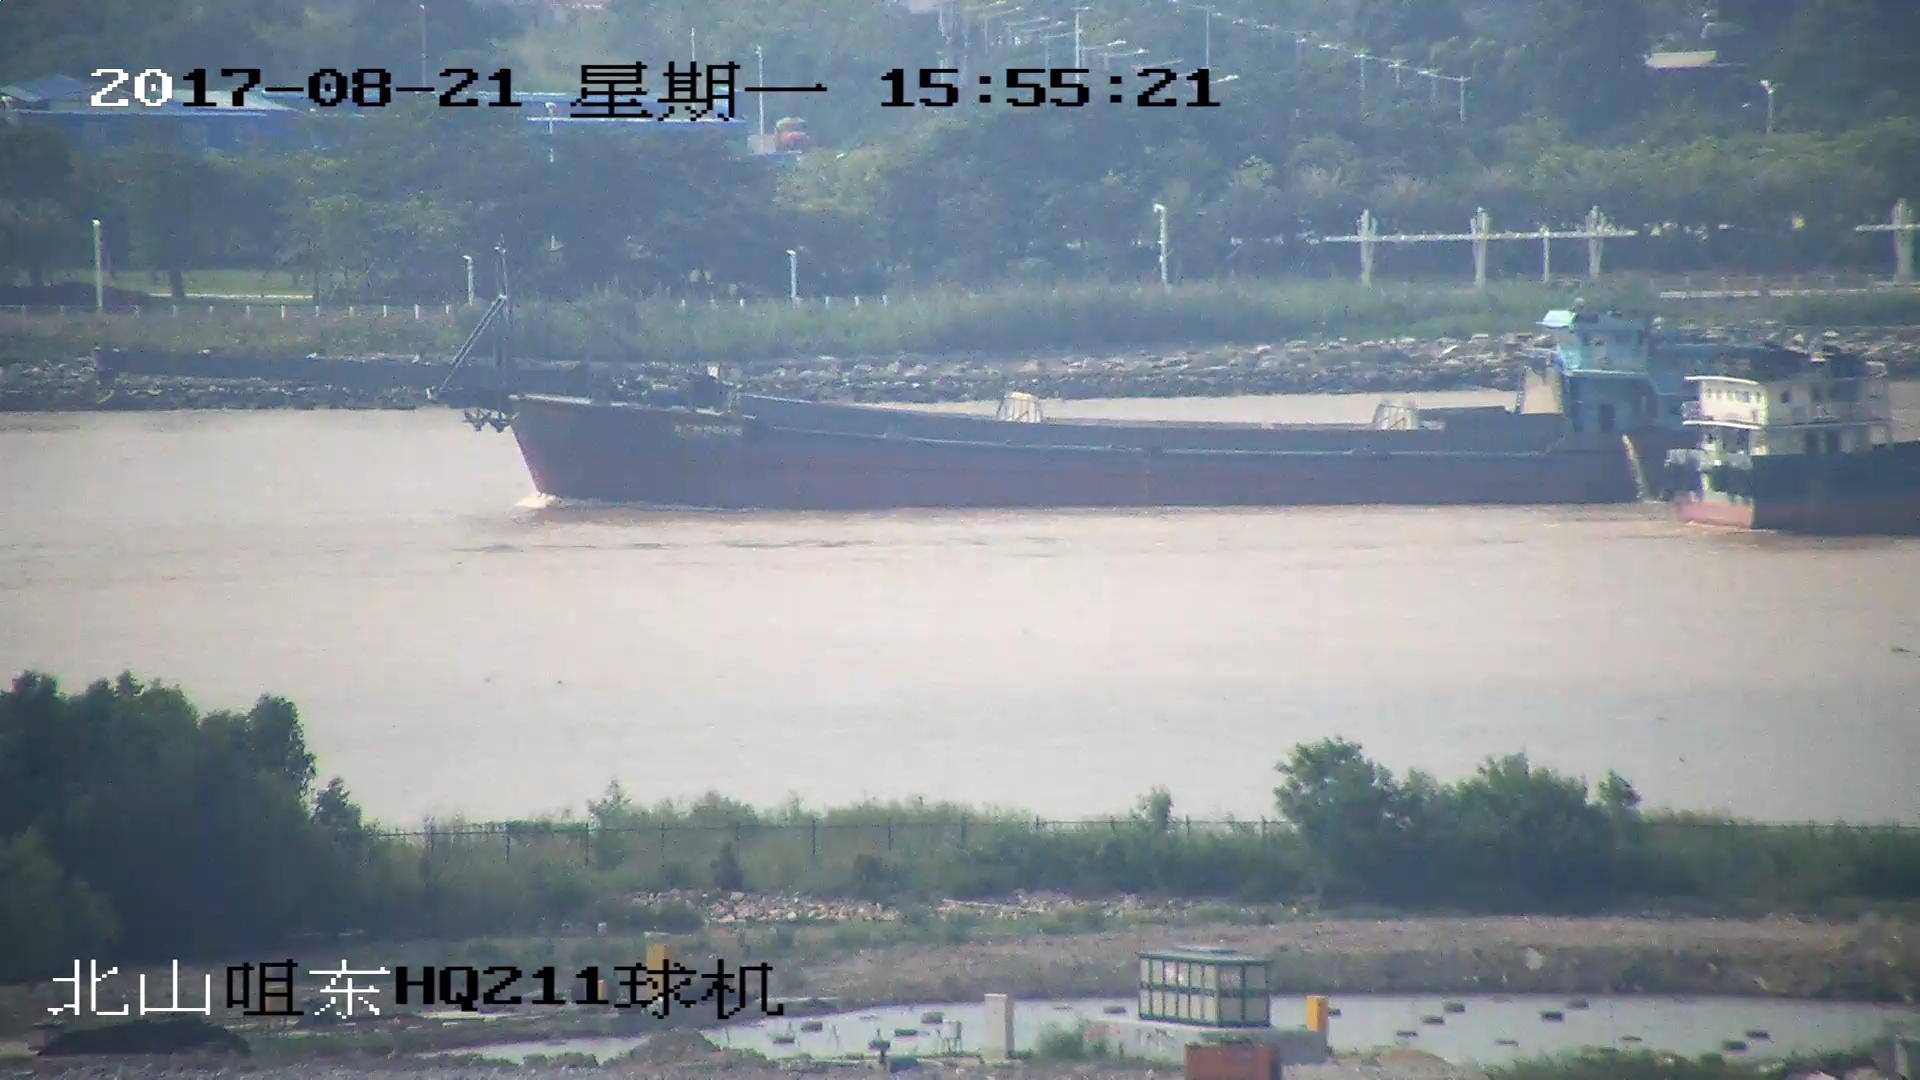bulk cargo carrier: (97, 254, 1727, 512)
general cargo ship: (1680, 348, 1920, 534)
